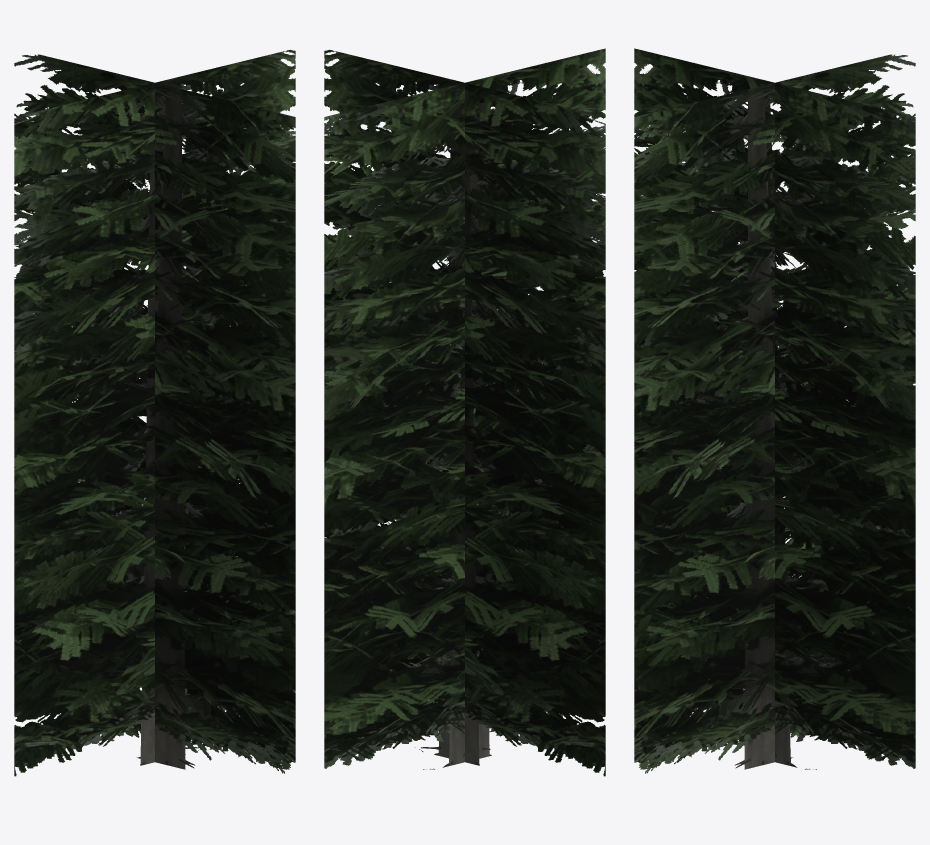
Rendered from jedle_stara_daleko.glb.
3 renders of one model, left to right at view 1: azimuth 30°, elevation 25°; view 2: azimuth 150°, elevation 25°; view 3: azimuth 270°, elevation 25°, orthographic.
Parts seen in each view (by area): view 1: jedle_stara_daleko; view 2: jedle_stara_daleko; view 3: jedle_stara_daleko.
Boxes of the visible parts, left/top/right/bottom form: jedle_stara_daleko: left=14, top=49, right=295, bottom=776; jedle_stara_daleko: left=324, top=48, right=605, bottom=776; jedle_stara_daleko: left=634, top=48, right=915, bottom=773.
Size of the model in its own units: 11.79 by 27.18 by 10.21.
3 materials, 3 textured.
